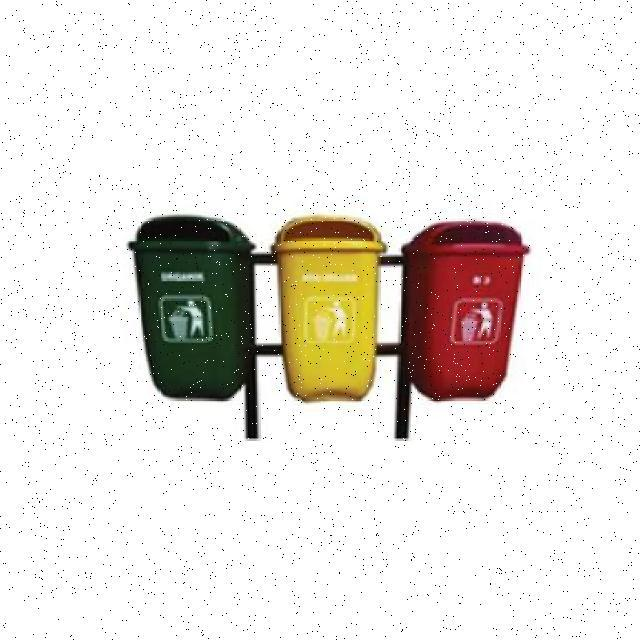garbage container: (119, 214, 275, 422), (390, 208, 538, 427), (263, 209, 396, 417)
